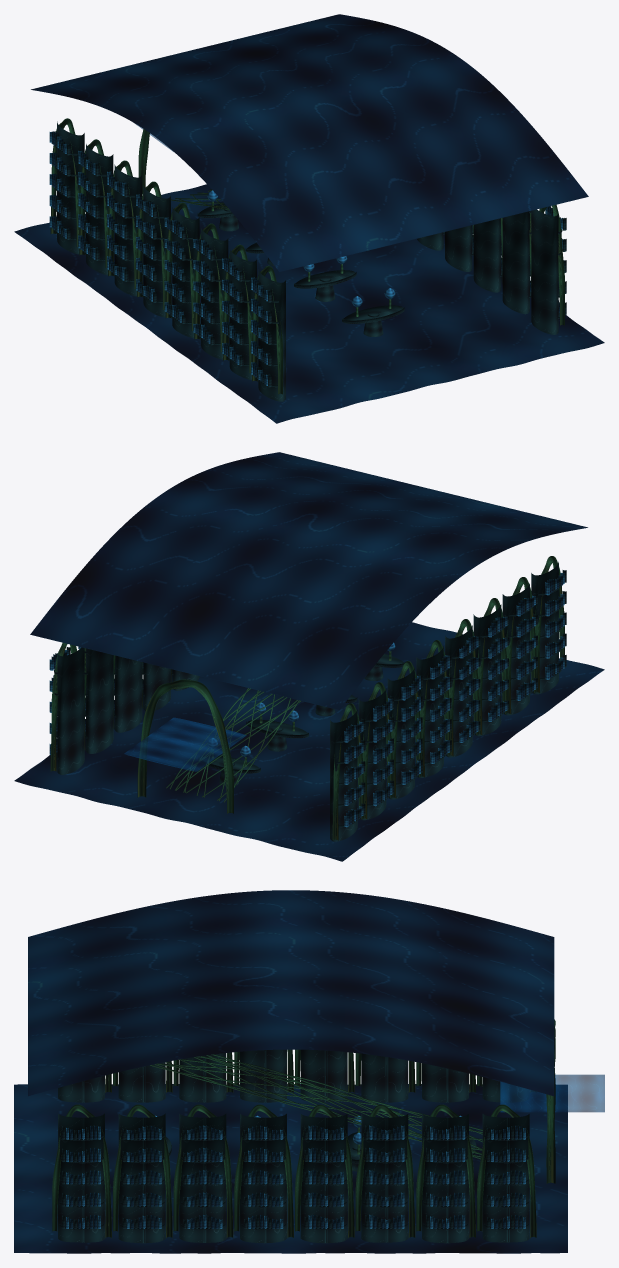
File: legacy-archive-hero-v2.glb
3 renders of one model, top to bottom at view 1: azimuth 30°, elevation 25°; view 2: azimuth 150°, elevation 25°; view 3: azimuth 270°, elevation 25°, orthographic. The views are drawn at different scales.
Parts seen in each view (by area): view 1: legacy-vault, legacy-floor, legacy-right-case-7, legacy-right-case-6, legacy-left-case-7, legacy-right-case-5, legacy-left-case-0, legacy-left-case-6, legacy-left-case-2, legacy-left-case-1, legacy-left-case-4, legacy-left-case-5 (+13 smaller); view 2: legacy-vault, legacy-floor, legacy-archive-glass, legacy-right-case-0, legacy-right-case-1, legacy-archive-portal, legacy-left-case-0, legacy-right-case-2, legacy-left-case-3, legacy-left-case-4, legacy-left-case-1, legacy-left-case-2 (+14 smaller); view 3: legacy-vault, legacy-floor, legacy-right-case-6, legacy-right-case-5, legacy-right-case-2, legacy-right-case-1, legacy-right-case-3, legacy-right-case-0, legacy-right-case-4, legacy-right-case-7, legacy-archive-glass, legacy-left-case-3 (+16 smaller).
Part boxes in pixels (x1,y1,x2,y2): legacy-vault: [31, 14, 588, 272]; legacy-floor: [14, 184, 604, 423]; legacy-right-case-7: [531, 209, 558, 334]; legacy-right-case-6: [502, 211, 529, 314]; legacy-left-case-7: [258, 269, 285, 401]; legacy-right-case-5: [473, 218, 501, 292]; legacy-left-case-0: [57, 121, 84, 254]; legacy-left-case-6: [229, 248, 256, 380]; legacy-left-case-2: [114, 164, 141, 296]; legacy-left-case-1: [86, 144, 113, 275]; legacy-left-case-4: [172, 207, 199, 338]; legacy-left-case-5: [201, 228, 228, 359]; legacy-vault: [30, 452, 587, 709]; legacy-floor: [14, 622, 604, 861]; legacy-archive-glass: [124, 717, 246, 771]; legacy-right-case-0: [57, 647, 84, 774]; legacy-right-case-1: [86, 648, 113, 753]; legacy-archive-portal: [137, 679, 233, 813]; legacy-left-case-0: [330, 709, 357, 841]; legacy-right-case-2: [114, 655, 142, 732]; legacy-left-case-3: [416, 646, 443, 777]; legacy-left-case-4: [445, 625, 472, 757]; legacy-left-case-1: [358, 688, 386, 820]; legacy-left-case-2: [387, 668, 414, 799]; legacy-vault: [28, 890, 554, 1096]; legacy-floor: [14, 1083, 567, 1253]; legacy-right-case-6: [118, 1113, 165, 1243]; legacy-right-case-5: [179, 1113, 226, 1242]; legacy-right-case-2: [361, 1114, 408, 1242]; legacy-right-case-1: [422, 1114, 468, 1243]; legacy-right-case-3: [300, 1114, 347, 1243]; legacy-right-case-0: [482, 1114, 529, 1242]; legacy-right-case-4: [240, 1113, 286, 1243]; legacy-right-case-7: [58, 1113, 104, 1242]; legacy-archive-glass: [500, 1074, 604, 1112]; legacy-left-case-3: [300, 1049, 347, 1102].
Bounding box in the file's own units: 13 × 7.16 × 19.2.
Materials: 7 (7 with a texture image).
